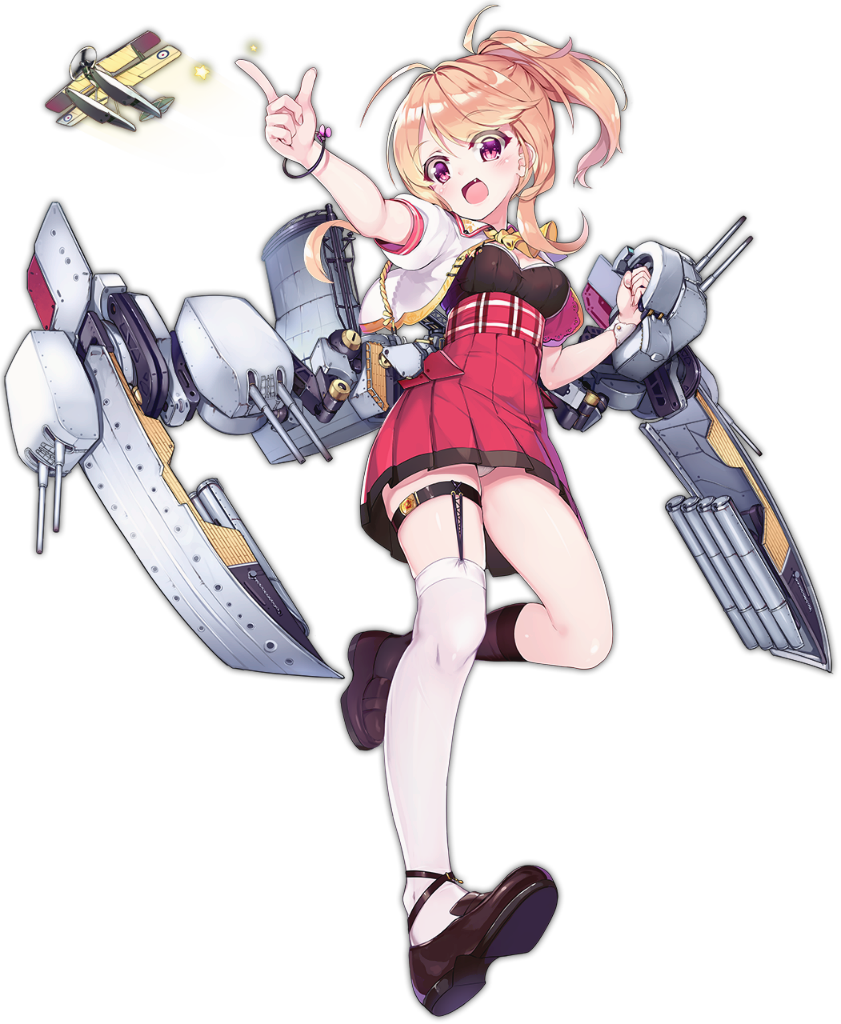person: (205, 51, 652, 783)
